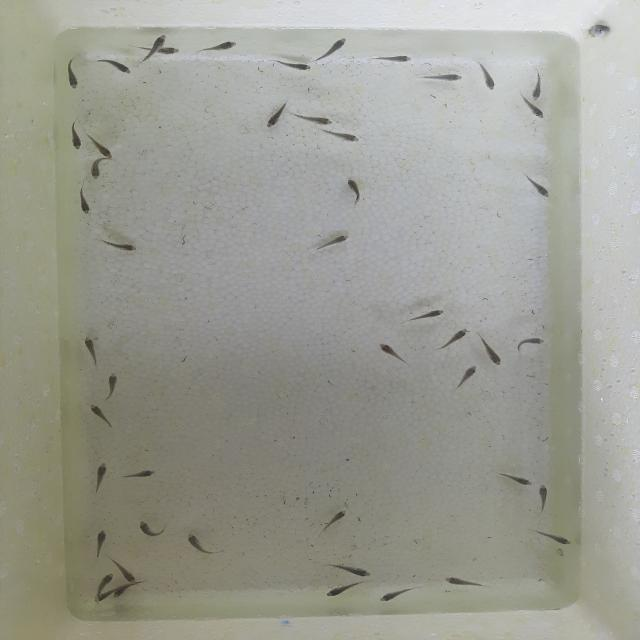fingerling: (312, 508, 348, 540), (183, 531, 227, 556), (476, 334, 504, 369), (407, 302, 451, 324), (367, 47, 414, 67), (86, 460, 114, 492), (493, 470, 536, 490), (316, 229, 355, 251), (531, 527, 574, 546), (120, 466, 163, 485), (453, 364, 481, 393), (86, 134, 116, 161), (90, 523, 111, 560), (524, 70, 548, 102), (82, 334, 104, 368), (88, 403, 113, 432), (512, 336, 546, 357), (276, 56, 315, 74), (442, 575, 492, 589), (143, 36, 173, 59), (438, 326, 469, 348), (136, 520, 170, 540), (536, 483, 556, 517), (420, 70, 468, 84), (330, 564, 374, 579), (65, 119, 85, 152), (375, 342, 406, 363), (118, 560, 146, 583), (263, 103, 287, 129), (101, 371, 121, 402), (523, 176, 551, 198), (376, 589, 412, 605), (107, 57, 137, 76), (102, 239, 140, 254), (475, 61, 495, 89), (524, 98, 548, 121), (297, 115, 339, 128), (319, 38, 346, 58), (66, 60, 82, 90), (206, 39, 241, 52), (324, 586, 356, 600), (328, 132, 362, 145), (586, 20, 612, 37), (85, 162, 106, 182), (77, 190, 93, 216), (346, 178, 363, 202), (89, 590, 110, 606), (96, 570, 115, 586), (109, 585, 126, 601), (162, 46, 182, 58)
